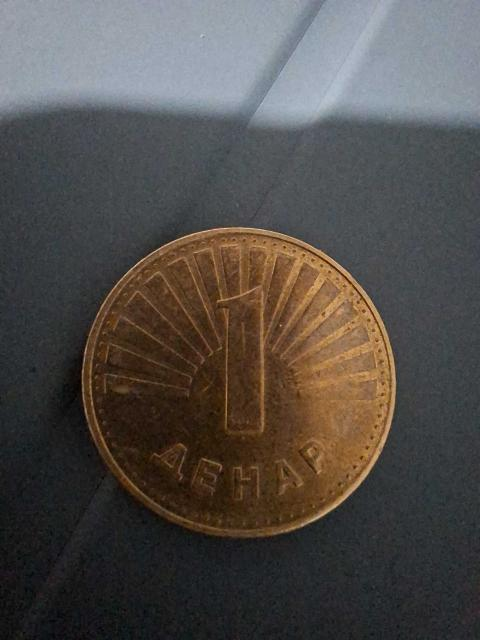1_coin: (83, 229, 395, 536)
